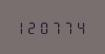four: (73, 20, 83, 34)
one: (17, 20, 27, 34)
seven: (51, 20, 61, 34), (62, 20, 72, 34)
two: (28, 20, 38, 34)
zero: (40, 20, 50, 34)
